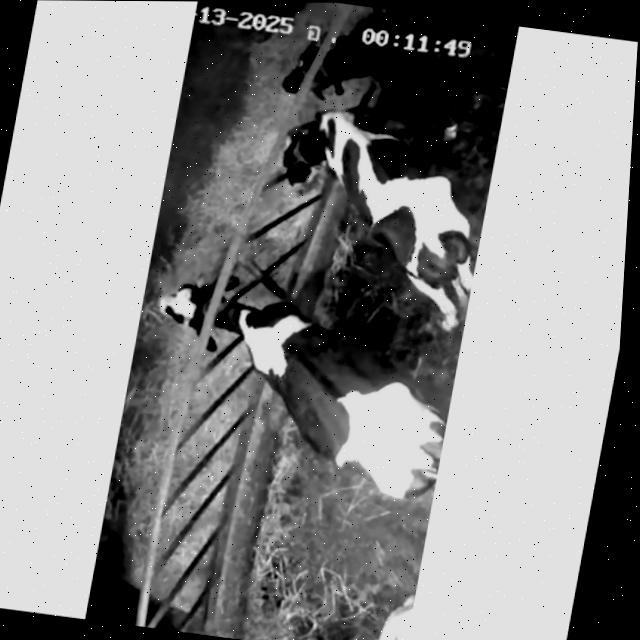eat: (127, 246, 346, 402), (215, 94, 445, 237), (241, 2, 482, 120)
